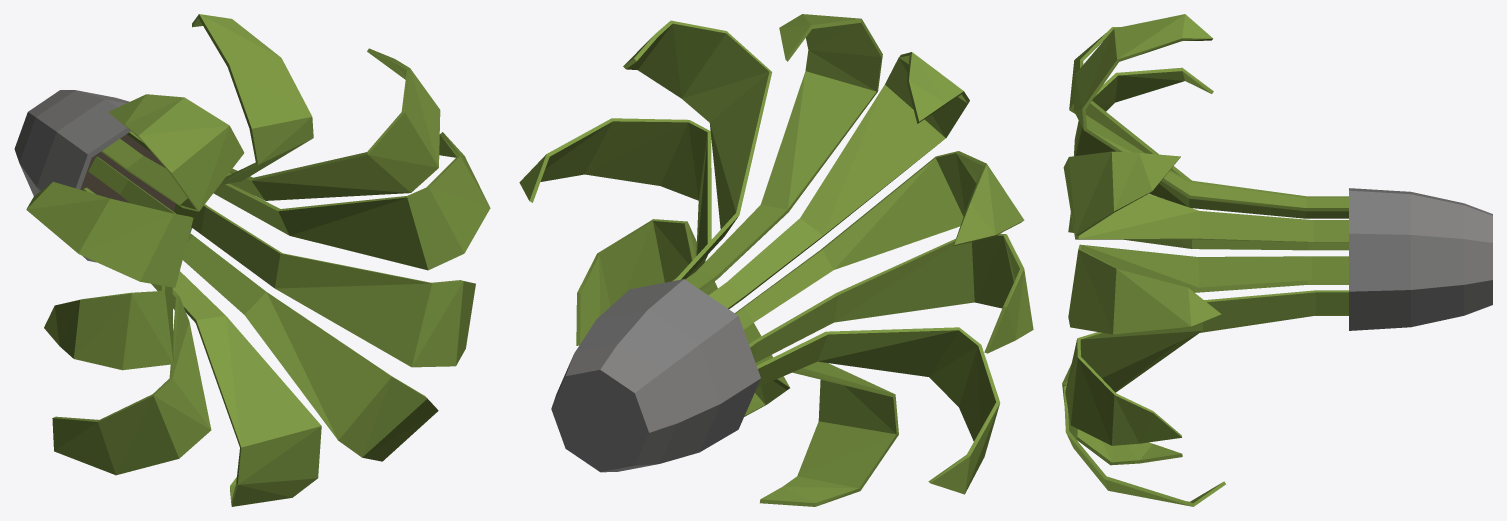
Rendered from houseplant-6.obj.
The picture shows the model from 3 angles, left to right: view 1: azimuth 30°, elevation 25°; view 2: azimuth 150°, elevation 25°; view 3: azimuth 270°, elevation 25°; orthographic projection. The views are drawn at different scales.
Visible parts, largest first — view 1: houseplant-6; view 2: houseplant-6; view 3: houseplant-6.
Boxes of the visible parts, x1,y1,x2,y2 form: houseplant-6: (14, 14, 490, 506); houseplant-6: (519, 14, 1033, 506); houseplant-6: (1062, 14, 1492, 506).
Size of the model in its own units: 65.09 by 65.73 by 60.
